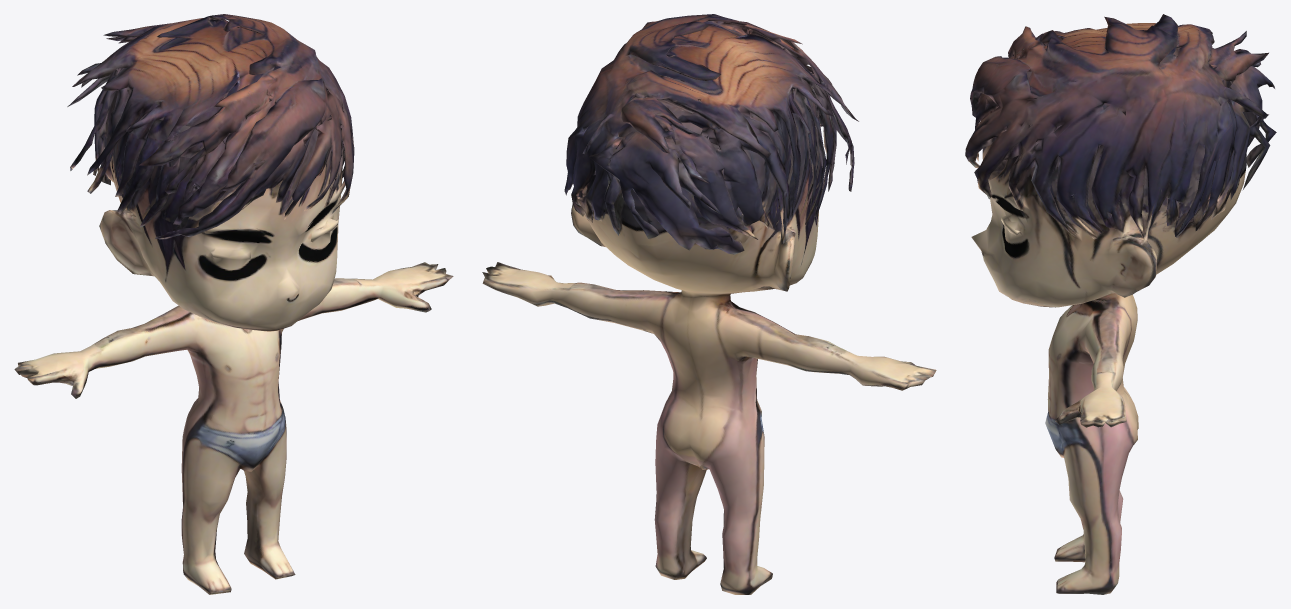
File: Chibi_T_Pose_Champion_1125044016.fbx
3 renders of one model, left to right at view 1: azimuth 30°, elevation 25°; view 2: azimuth 150°, elevation 25°; view 3: azimuth 270°, elevation 25°, orthographic. The views are drawn at different scales.
Parts seen in each view (by area): view 1: Mesh_0; view 2: Mesh_0; view 3: Mesh_0.
Part boxes in pixels (x1,y1,x2,y2): Mesh_0: [14, 14, 453, 594]; Mesh_0: [482, 14, 936, 594]; Mesh_0: [965, 14, 1276, 594].
Size of the model in its own units: 165 by 200 by 101.
Materials: 1 (1 with a texture image).
